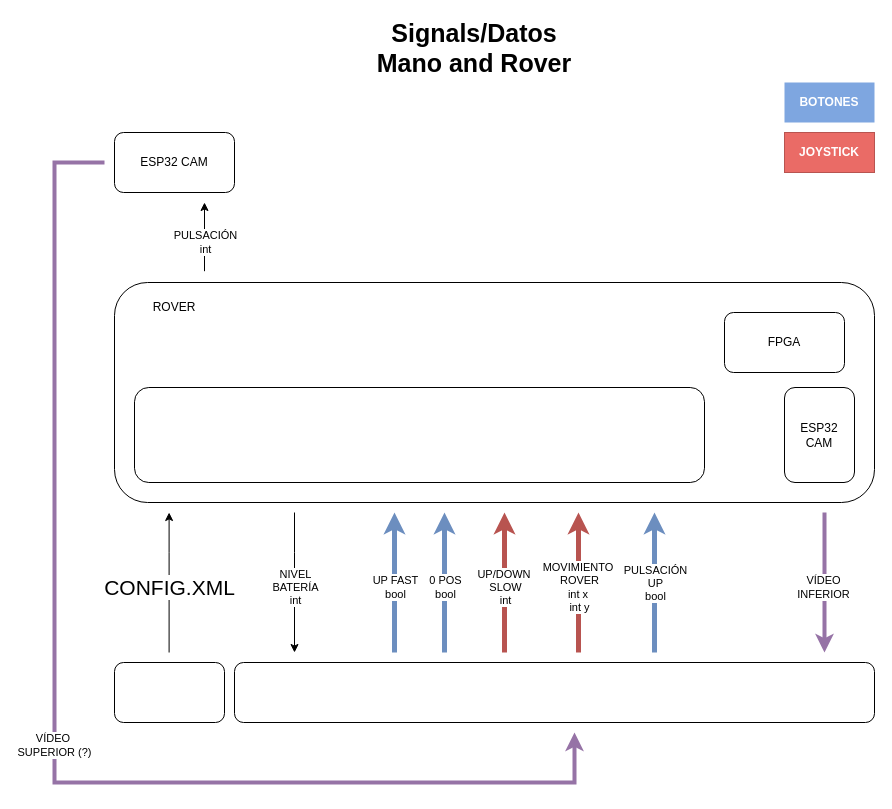
Some shapes in this 892 by 809 pixel diagram are drawn without their labels. Each missing label, with the centre of its shape:
BBB: (x=419, y=434)
GUI: (x=169, y=692)
GUI / MANDO: (x=554, y=692)
